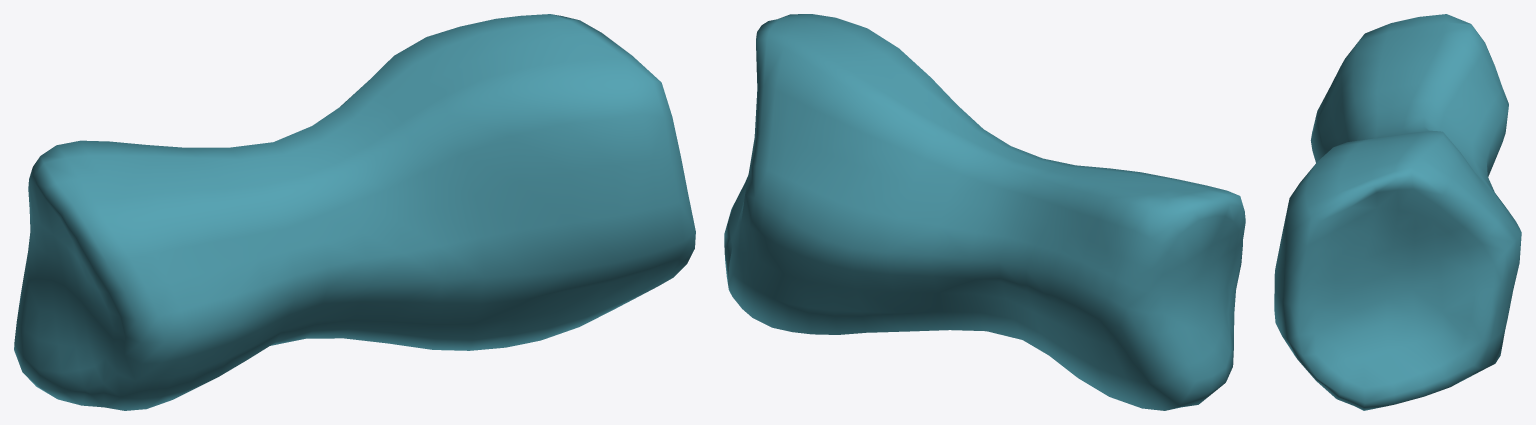
Rendered from VIS_Alpha_Surface_031.dae.
The picture shows the model from 3 angles, left to right: view 1: azimuth 30°, elevation 25°; view 2: azimuth 150°, elevation 25°; view 3: azimuth 270°, elevation 25°; orthographic projection. The views are drawn at different scales.
Visible parts, largest first — view 1: VIS_Alpha_Surface_031; view 2: VIS_Alpha_Surface_031; view 3: VIS_Alpha_Surface_031.
Boxes of the visible parts, x1,y1,x2,y2 form: VIS_Alpha_Surface_031: (14,14,695,410); VIS_Alpha_Surface_031: (724,14,1245,410); VIS_Alpha_Surface_031: (1274,14,1521,410).
Bounding box in the file's own units: 0.2959 × 0.1325 × 0.1392.
